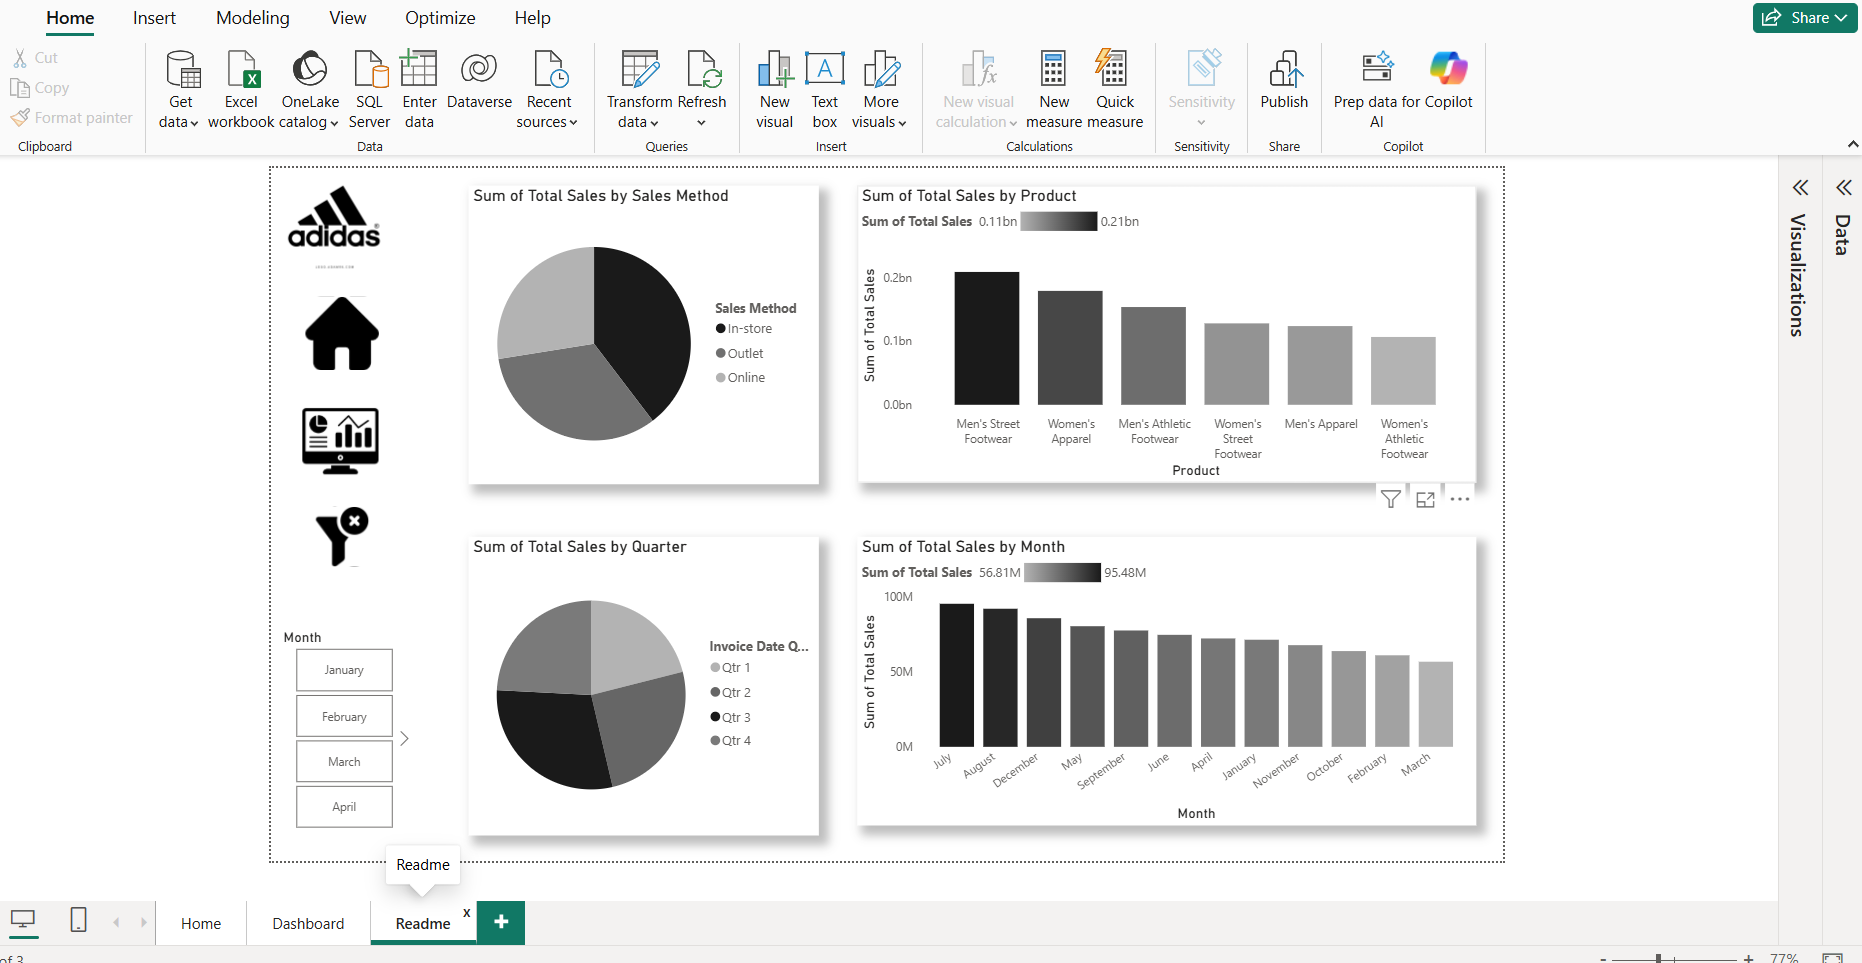

This screenshot's page, from the dashboard's own definition file:
{"tool":"powerbi","page":{"name":"Readme","canvas":[1280,720],"ordinal":2},"visuals":[{"type":"columnChart","fields":{"Category":["Table1.Product"],"Y":["Sum(Table1.Total Sales)"]},"box":[608.6,18.6,642.9,308.6],"z":0},{"type":"columnChart","fields":{"Category":["Table1.Invoice Date.Variation.Date Hierarchy.Month"],"Y":["Sum(Table1.Total Sales)"]},"box":[608.6,382.9,642.9,300],"z":1000},{"type":"pieChart","fields":{"Category":["Table1.Sales Method"],"Y":["Sum(Table1.Total Sales)"]},"box":[205.7,18.6,364.3,310],"z":2000},{"type":"pieChart","fields":{"Category":["Table1.Invoice Date.Variation.Date Hierarchy.Quarter"],"Y":["Sum(Table1.Total Sales)"]},"box":[205.7,382.9,364.3,310],"z":3000},{"type":"actionButton","box":[10,0,137.1,111.4],"z":4000},{"type":"actionButton","box":[28.6,130,91.4,84.3],"z":5000},{"type":"actionButton","box":[28.6,240,100,87.1],"z":6000},{"type":"slicer","fields":{"Values":["Table1.Invoice Date.Variation.Date Hierarchy.Month"]},"box":[0,474.3,150,218.6],"z":7000},{"type":"actionButton","box":[38.6,348.6,72.9,70],"z":9000}]}

Visuals, with their boxes on the page's 1280x720 design canvas (x1, y1, x2, y2). These are canvas units, not pixel positions in the 1862x963 screenshot, which may show the page scaled, cropped or inside an application window:
columnChart - Table1.Product x Sum(Table1.Total Sales): 609 19 1252 327
columnChart - Table1.Invoice Date.Variation.Date Hierarchy.Month x Sum(Table1.Total Sales): 609 383 1252 683
pieChart - Table1.Sales Method x Sum(Table1.Total Sales): 206 19 570 329
pieChart - Table1.Invoice Date.Variation.Date Hierarchy.Quarter x Sum(Table1.Total Sales): 206 383 570 693
actionButton: 10 0 147 111
actionButton: 29 130 120 214
actionButton: 29 240 129 327
slicer - Table1.Invoice Date.Variation.Date Hierarchy.Month: 0 474 150 693
actionButton: 39 349 112 419
